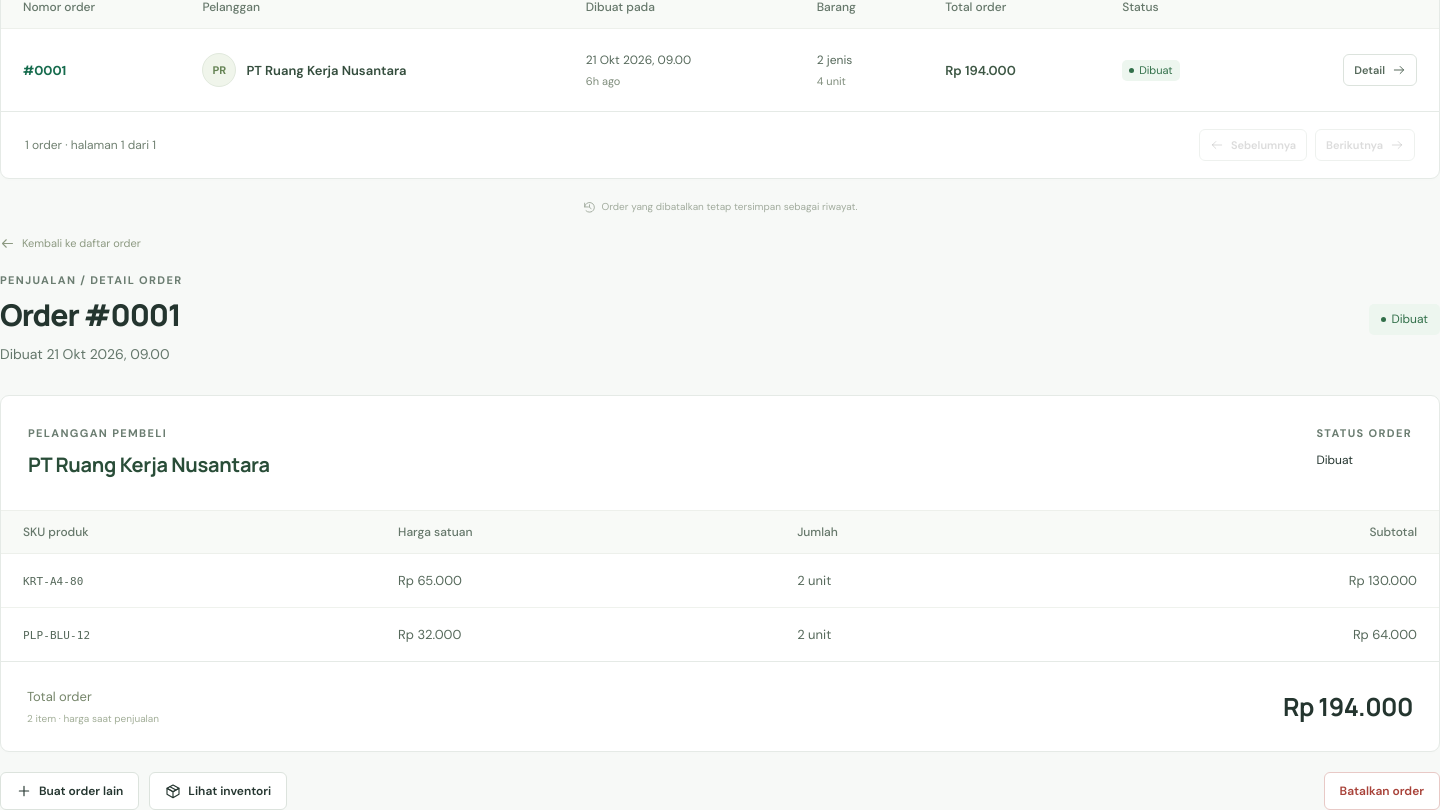
Scenario: refreshes the visible order list after cancellation without reloading
(page scrolled)
Expected: the text "Dibuat" in the row of "6h ago" is shown, top-left (1139, 62), bottom-right (1173, 76)
Click the button "Batalkan order": x=1382, y=792 top-left (1324, 772), bottom-right (1439, 809)
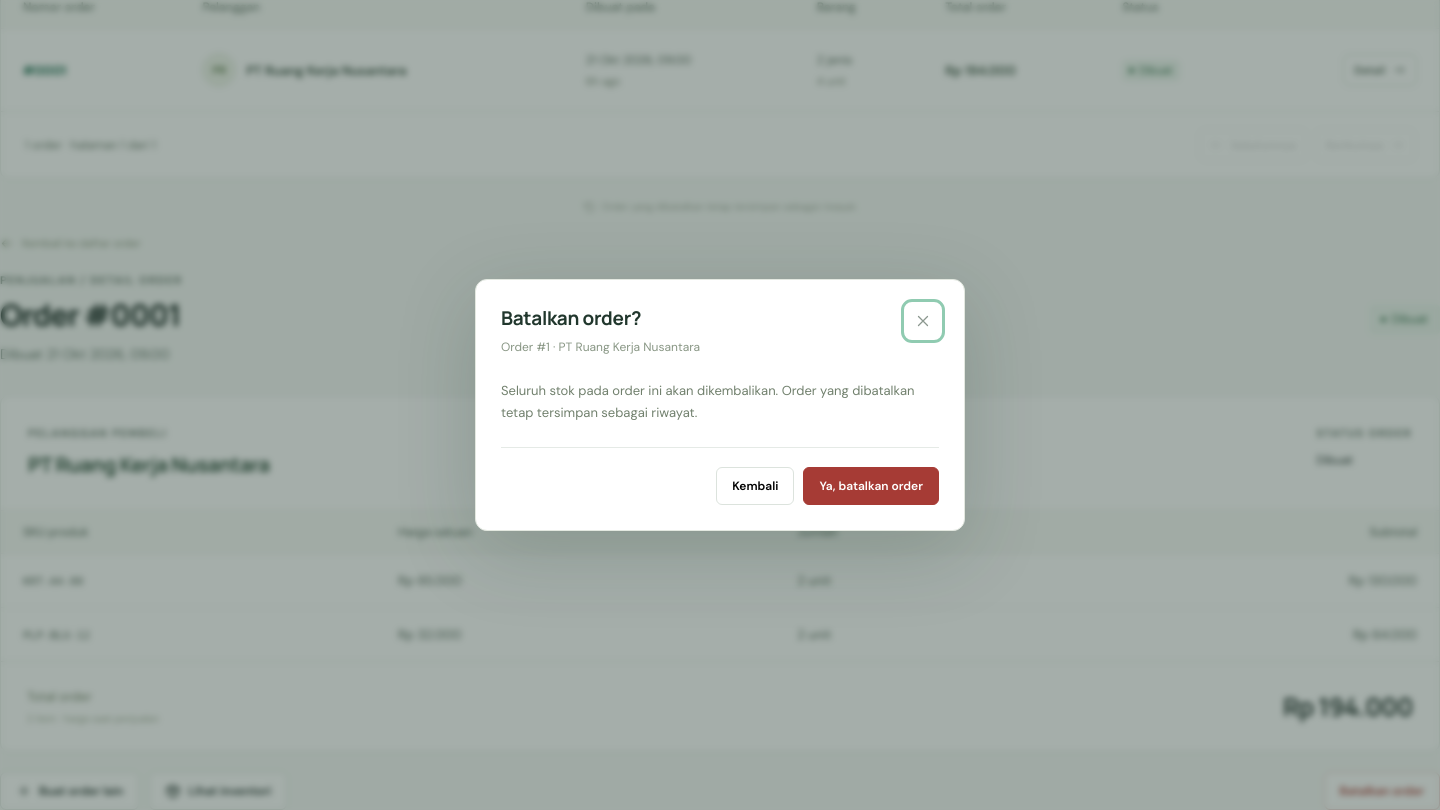
Click the button "Ya, batalkan order": x=871, y=486 top-left (803, 467), bottom-right (939, 505)
(page scrolled)
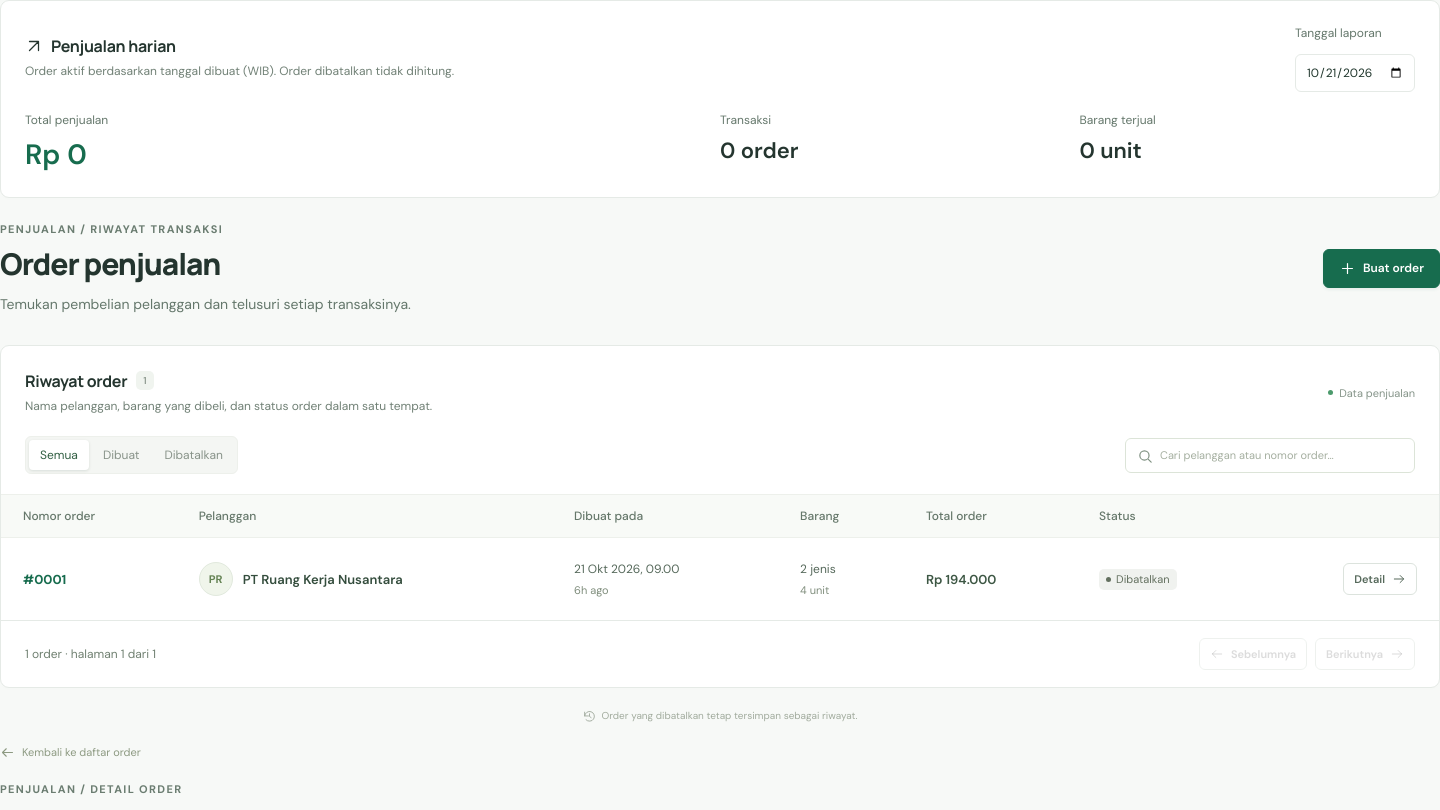
Result: the text "Dibatalkan" is shown at top-left (1099, 568), bottom-right (1177, 590)
Result: the dialog is gone
Result: the text "Rp 0" is shown at top-left (25, 136), bottom-right (87, 173)
